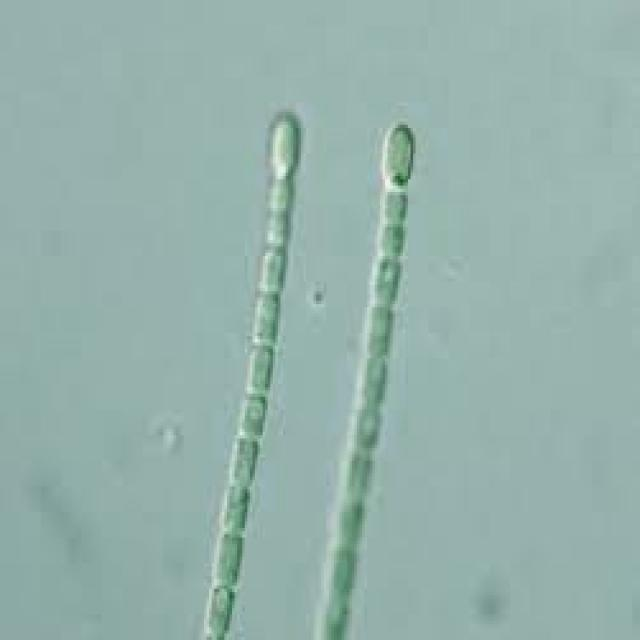Blue Green Algae: (270, 109, 301, 176), (383, 118, 413, 186), (204, 582, 237, 640), (237, 391, 270, 438), (214, 532, 245, 582), (245, 342, 275, 393), (326, 550, 359, 596), (230, 436, 260, 486), (252, 292, 280, 342), (222, 484, 250, 534), (370, 256, 400, 301), (364, 304, 392, 352), (352, 400, 380, 448), (336, 499, 364, 547), (344, 451, 370, 496), (260, 250, 283, 298), (360, 355, 388, 394), (262, 214, 290, 253), (380, 186, 408, 224), (268, 180, 293, 214), (377, 221, 403, 253)
